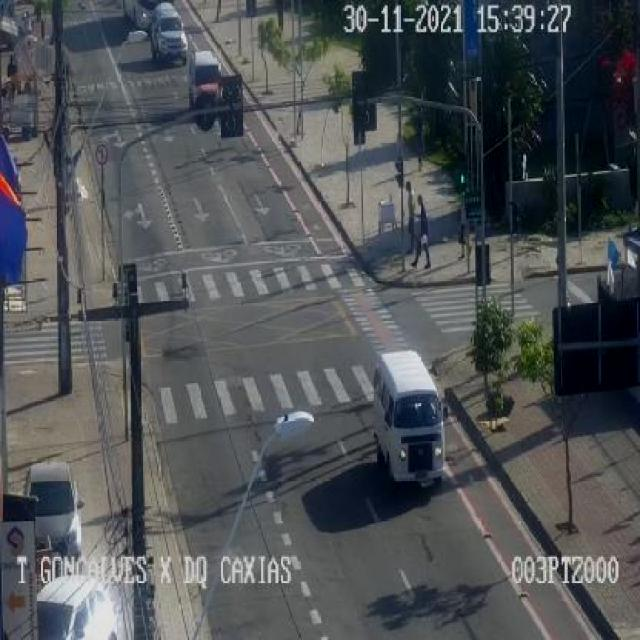Bus: (352, 343, 466, 511)
Car: (142, 2, 195, 70)
Van: (184, 50, 232, 138)
